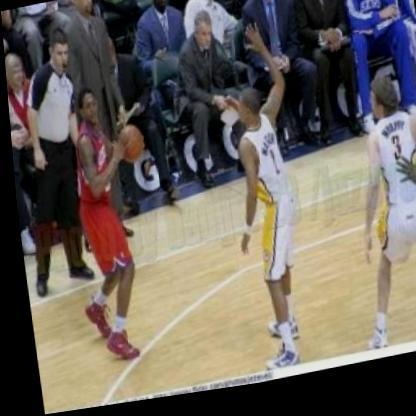basketball: (111, 123, 145, 169)
